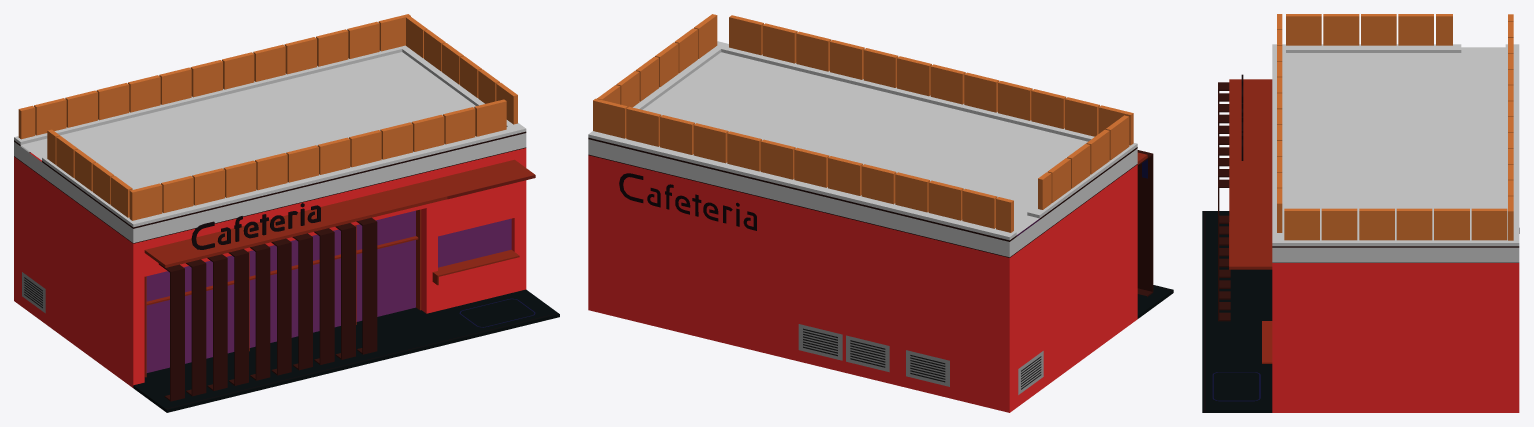
Rendered from Building_Cafe_002_L3.fbx.
3 views of the same model, side by side, from view 1: azimuth 30°, elevation 25°; view 2: azimuth 150°, elevation 25°; view 3: azimuth 270°, elevation 25° (orthographic). The views are drawn at different scales.
Visible parts, largest first — view 1: Building_Cafe_002_L3; view 2: Building_Cafe_002_L3; view 3: Building_Cafe_002_L3.
Boxes of the visible parts, x1,y1,x2,y2 form: Building_Cafe_002_L3: (14, 14, 559, 412); Building_Cafe_002_L3: (588, 14, 1173, 412); Building_Cafe_002_L3: (1202, 14, 1519, 412).
Size of the model in its own units: 13.81 by 6.5 by 9.31.
